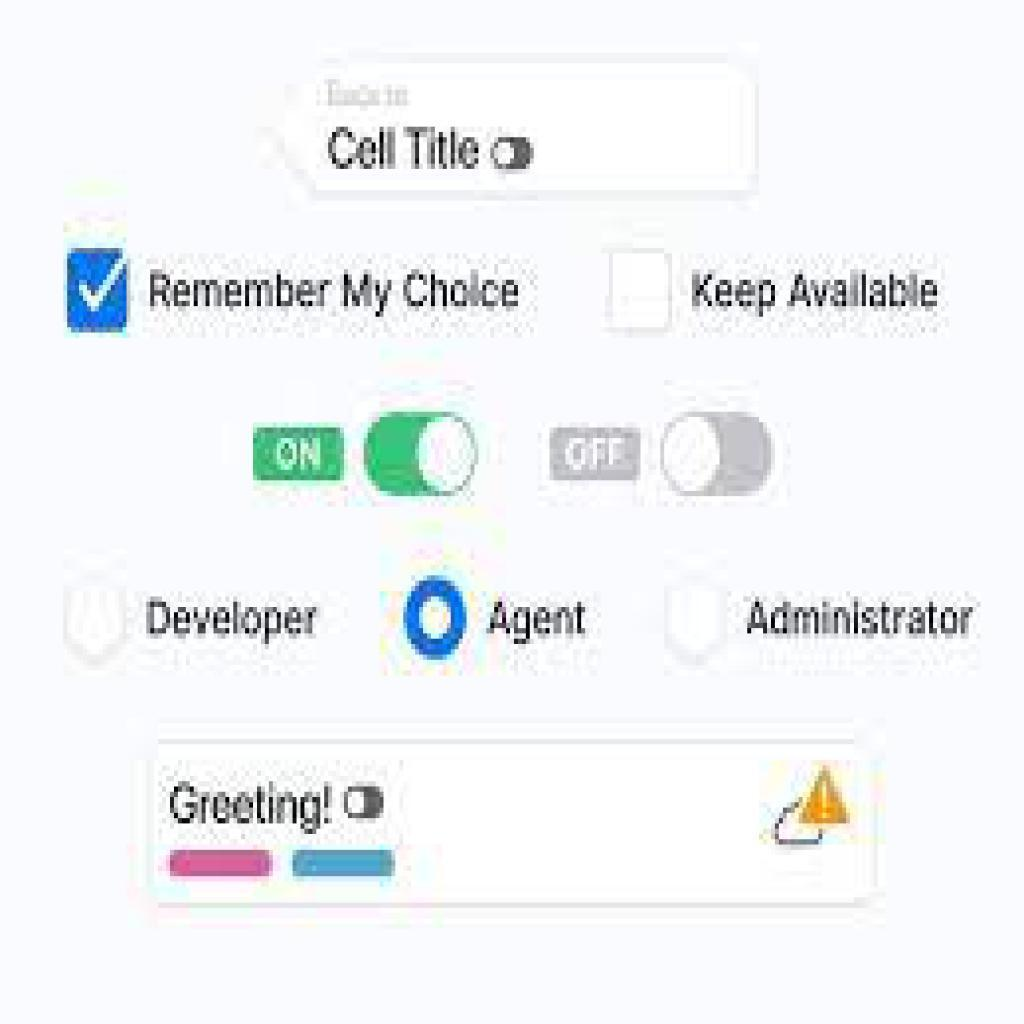checkbox: (608, 251, 676, 333), (68, 249, 129, 333)
radio: (395, 559, 478, 673), (662, 570, 733, 668), (64, 577, 132, 670)
switch: (659, 410, 776, 499), (364, 412, 480, 499), (340, 785, 388, 821), (489, 137, 535, 173)
